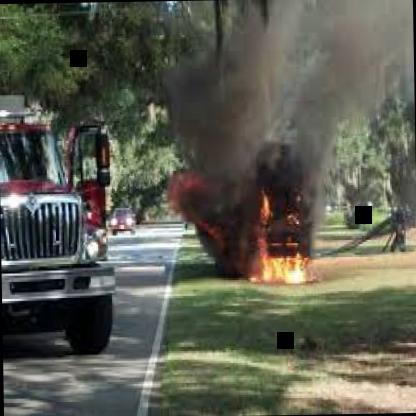fire: (176, 70, 330, 294)
